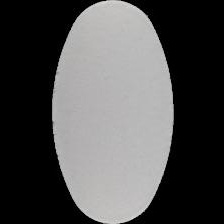64125-137: (0, 0, 224, 224)
